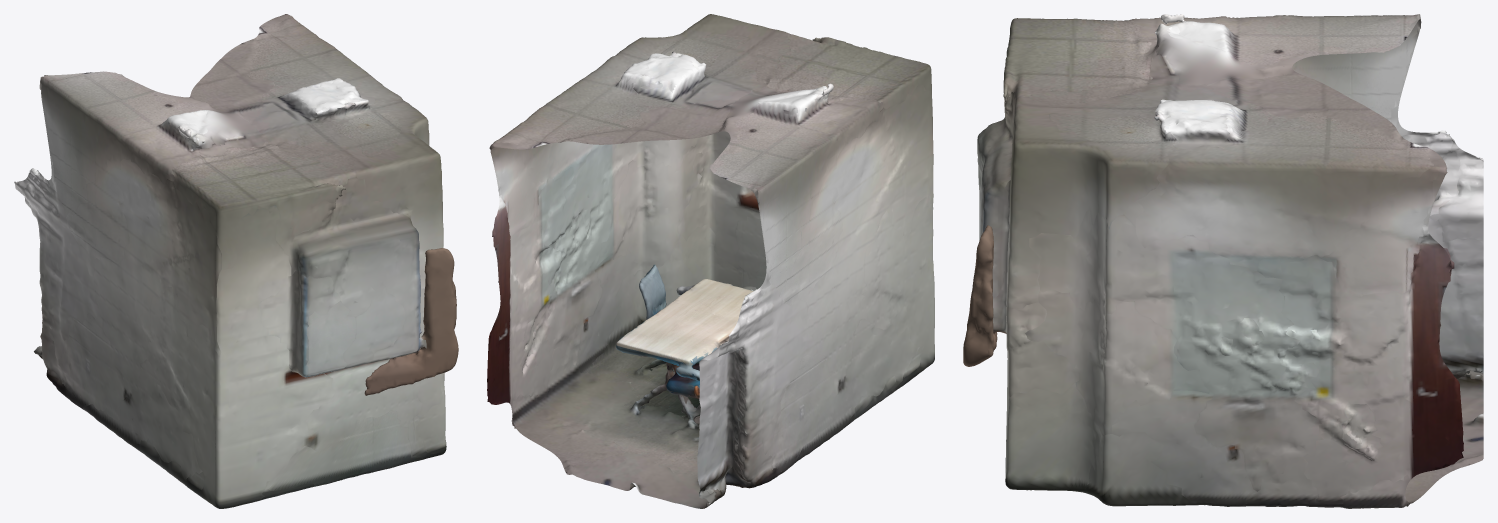
File: carlsonRoom.fbx
The picture shows the model from 3 angles, left to right: view 1: azimuth 30°, elevation 25°; view 2: azimuth 150°, elevation 25°; view 3: azimuth 270°, elevation 25°; orthographic projection. The views are drawn at different scales.
Parts seen in each view (by area): view 1: Mesh_0.002; view 2: Mesh_0.002; view 3: Mesh_0.002.
Boxes of the visible parts, x1,y1,x2,y2 form: Mesh_0.002: [14, 14, 458, 508]; Mesh_0.002: [487, 14, 934, 508]; Mesh_0.002: [963, 14, 1483, 508].
Bounding box in the file's own units: 261 × 311 × 389.
Materials: 1 (1 with a texture image).
